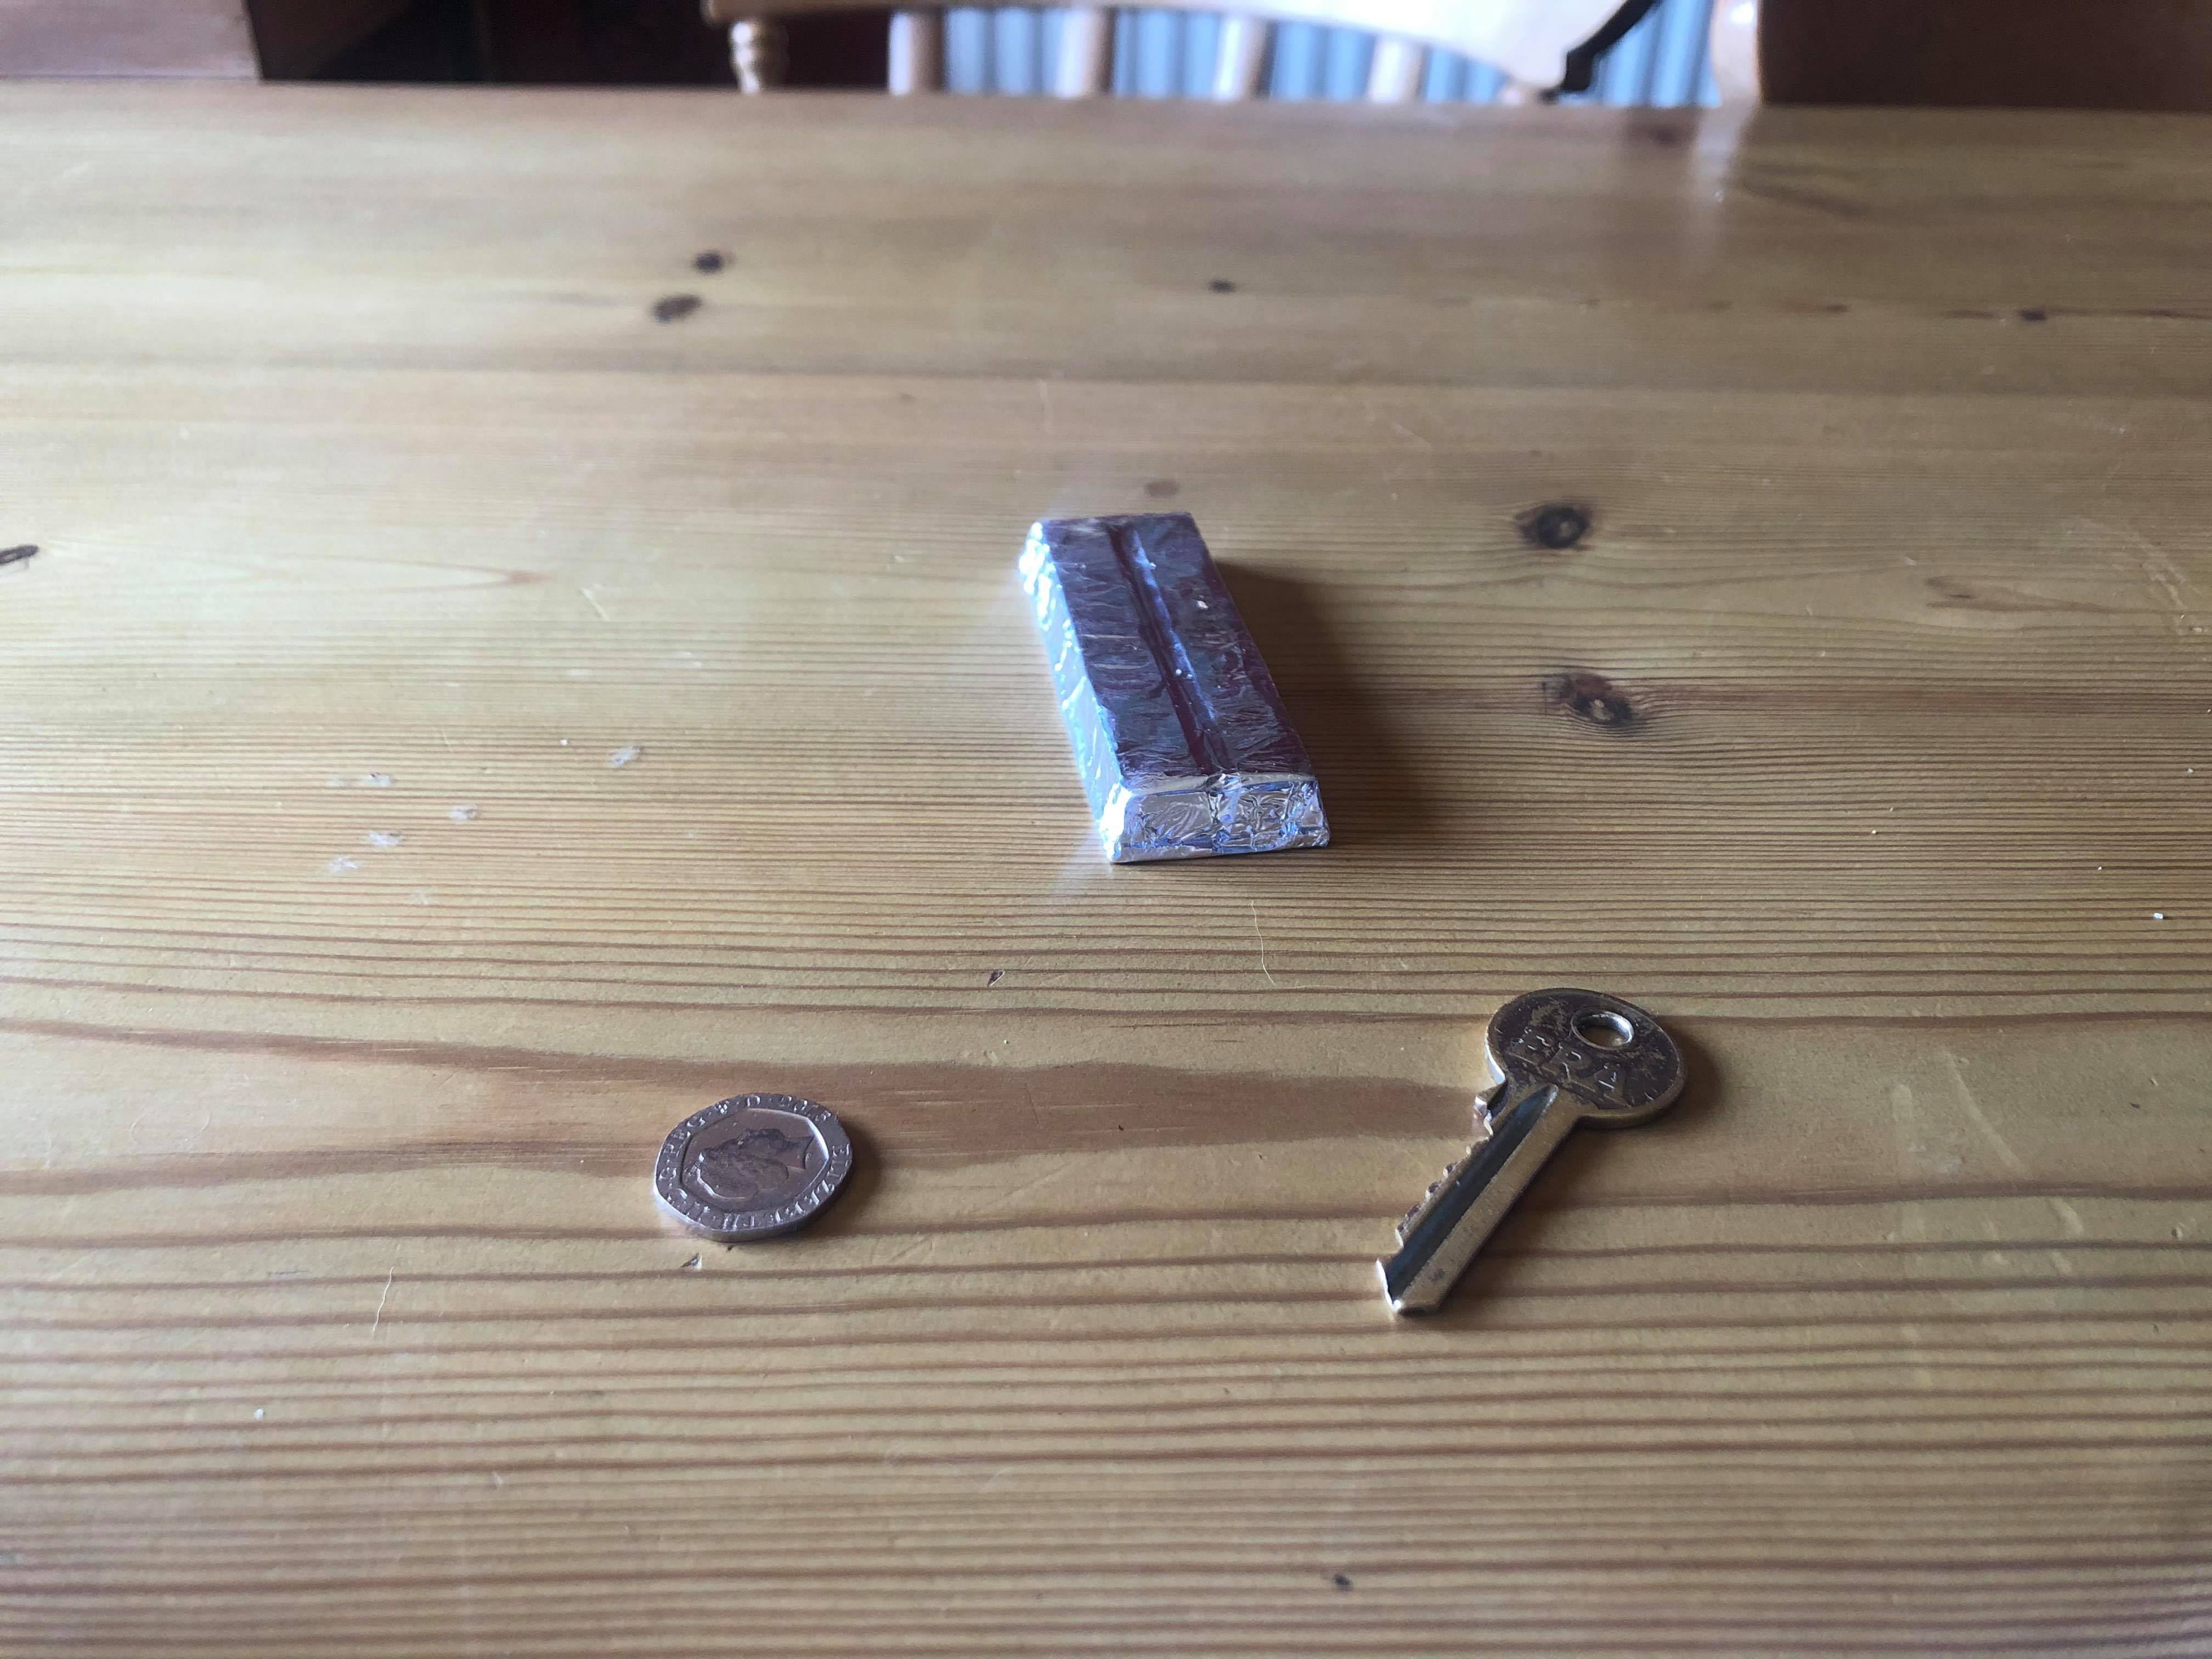Coin: (644, 1091, 860, 1239)
Foil: (1012, 505, 1339, 873)
Key: (1376, 974, 1684, 1331)
